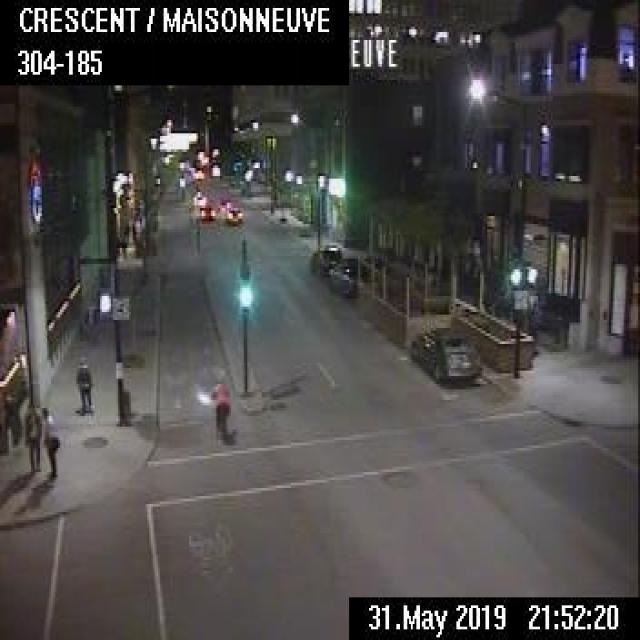cyclist: (211, 376, 231, 437)
pedestrian: (40, 405, 59, 476), (22, 400, 40, 471), (74, 355, 91, 413)
vehicle: (408, 323, 482, 382), (326, 256, 356, 294), (309, 240, 340, 274), (224, 205, 242, 224), (197, 202, 215, 219)
